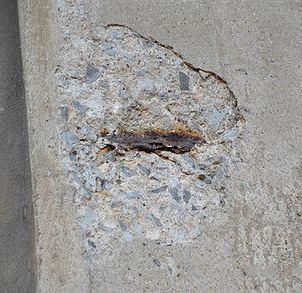Exposed reinforcement: (101, 130, 203, 157)
Spalling: (53, 1, 247, 256)
